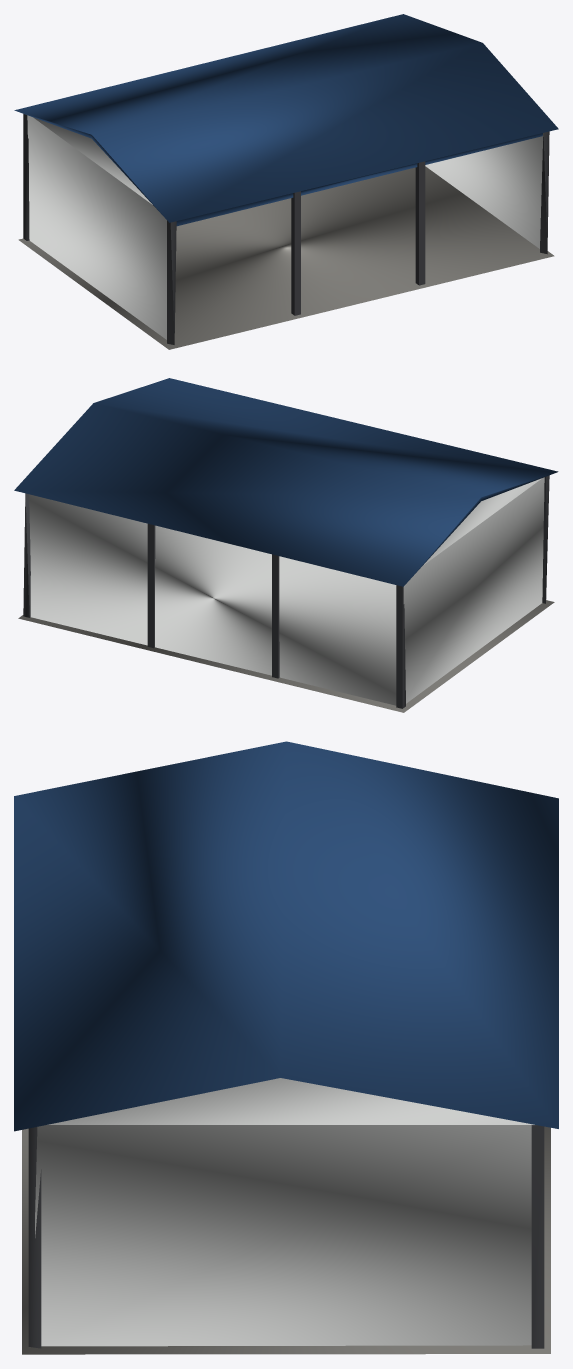
The model's file is workshop_LOD1.glb.
3 renders of one model, top to bottom at view 1: azimuth 30°, elevation 25°; view 2: azimuth 150°, elevation 25°; view 3: azimuth 270°, elevation 25°, orthographic. The views are drawn at different scales.
Visible parts, largest first — view 1: Body_LOD1; view 2: Body_LOD1; view 3: Body_LOD1.
Boxes of the visible parts, x1,y1,x2,y2 form: Body_LOD1: (14,14,558,349); Body_LOD1: (14,378,558,712); Body_LOD1: (14,741,558,1354).
Bounding box in the file's own units: 18.8 × 7.41 × 13.
